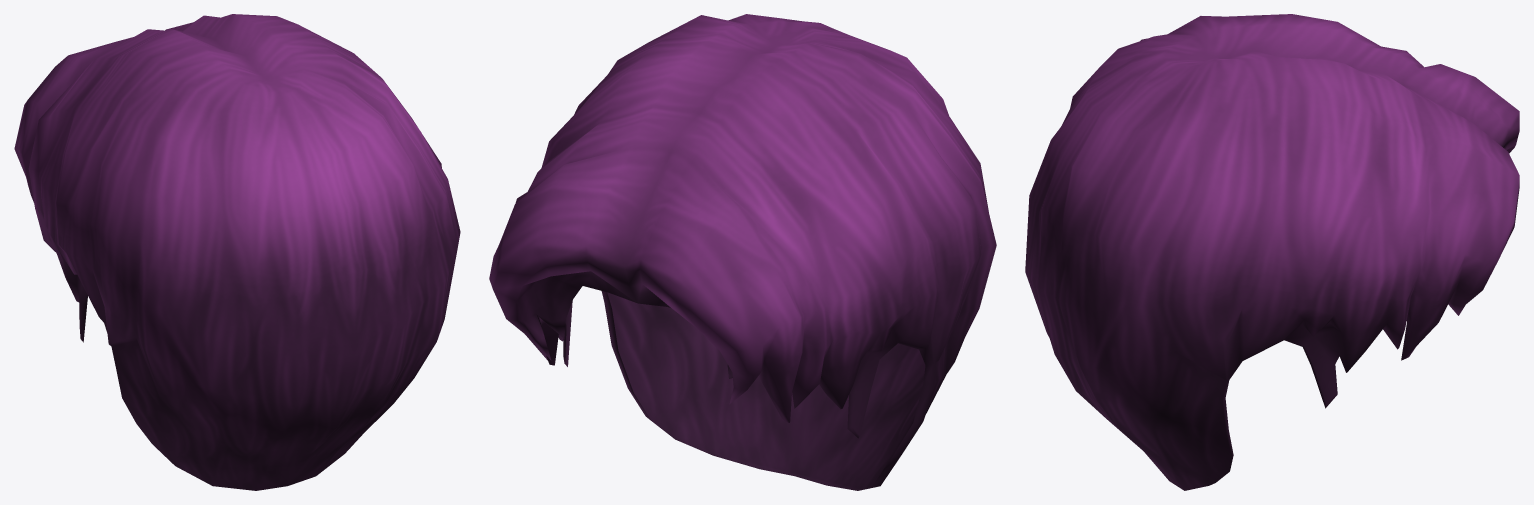
The model's file is Hair_Male_006_textured_purple.glb.
3 views of the same model, side by side, from view 1: azimuth 30°, elevation 25°; view 2: azimuth 150°, elevation 25°; view 3: azimuth 270°, elevation 25° (orthographic). The views are drawn at different scales.
Visible parts, largest first — view 1: Hair_Male_006; view 2: Hair_Male_006; view 3: Hair_Male_006.
Boxes of the visible parts, left/top/right/bottom form: Hair_Male_006: left=14, top=14, right=460, bottom=490; Hair_Male_006: left=489, top=14, right=996, bottom=490; Hair_Male_006: left=1025, top=14, right=1519, bottom=490.
Bounding box in the file's own units: 0.195 × 0.2308 × 0.2425.
Materials: 1 (1 with a texture image).
